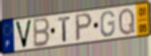B: (33, 16, 51, 48)
G: (99, 10, 116, 38)
P: (75, 12, 94, 44)
Q: (118, 7, 136, 37)
T: (57, 15, 71, 43)
V: (14, 19, 33, 50)
